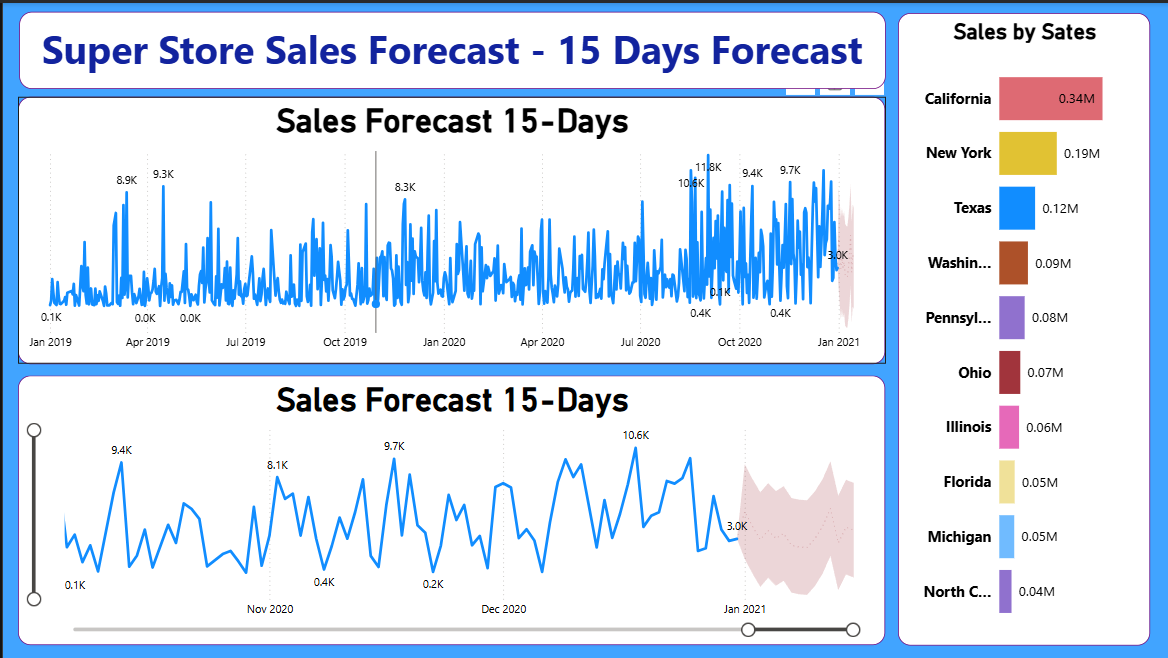

This screenshot's page, from the dashboard's own definition file:
{"tool":"powerbi","page":{"name":"Page 2","canvas":[1280,720],"ordinal":1},"visuals":[{"type":"lineChart","title":"Sales Forecast 15-Days","fields":{"Y":["Sum(SuperStore_Sales_Dataset.Sales)"],"Category":["SuperStore_Sales_Dataset.Order Date"]},"box":[16.5,408.9,952.3,296.4],"z":0},{"type":"lineChart","title":" Sales Forecast 15-Days","fields":{"Y":["Sum(SuperStore_Sales_Dataset.Sales)"],"Category":["SuperStore_Sales_Dataset.Order Date"]},"box":[16.5,102.9,952.3,293.7],"z":1000},{"type":"clusteredBarChart","title":"Sales by Sates","fields":{"Category":["SuperStore_Sales_Dataset.State"],"Y":["Sum(SuperStore_Sales_Dataset.Sales)"]},"box":[982.5,11,277.2,694.3],"z":2000},{"type":"textbox","box":[17.8,9.6,950.9,85.1],"z":3000}]}

Visuals, with their boxes in screenshot pixels (x1, y1, x2, y2), scaled from the page's 1280x720 canvas onto the 1168x658 screenshot:
"Sales Forecast 15-Days" lineChart: x1=15, y1=374, x2=884, y2=645
" Sales Forecast 15-Days" lineChart: x1=15, y1=94, x2=884, y2=362
"Sales by Sates" clusteredBarChart: x1=897, y1=10, x2=1149, y2=645
textbox: x1=16, y1=9, x2=884, y2=87
